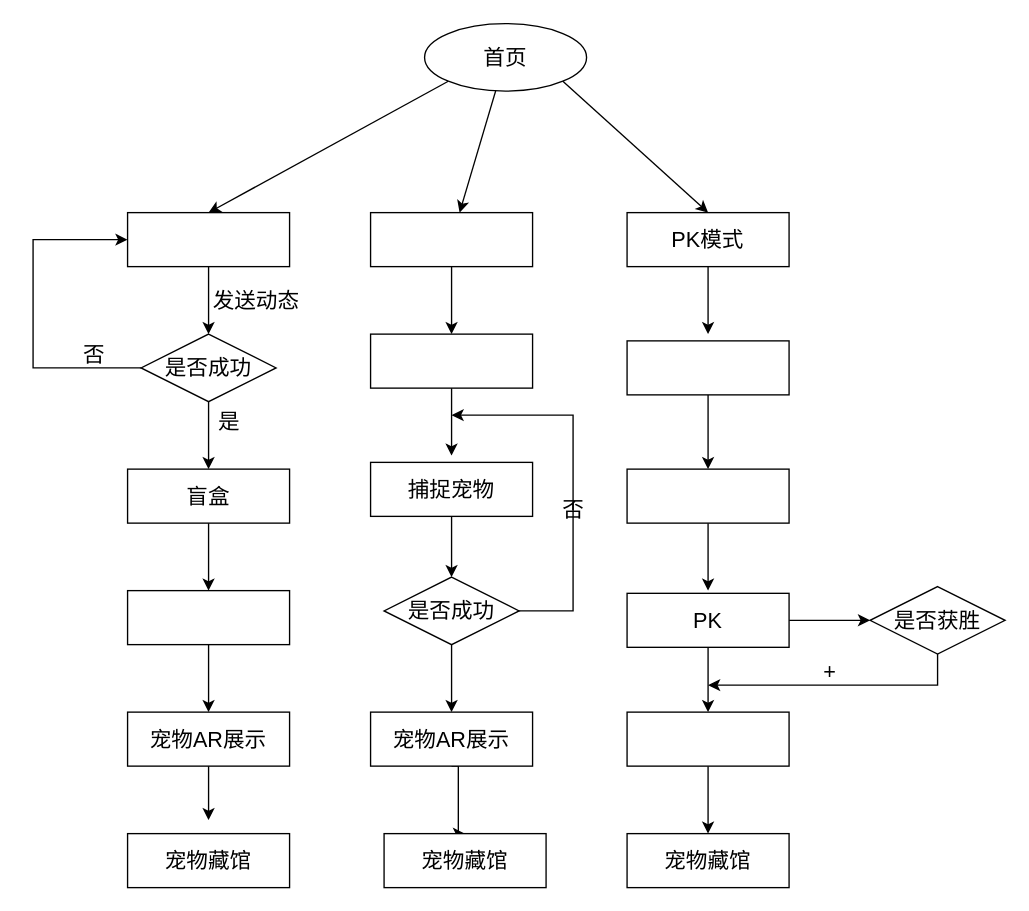
The diagram is 1029 pixels wide and 911 high, and some of its shapes have lost their labels. Each missing label, with the centre of its shape:
"与朋友宠物合影" goes at point (707, 738).
"寻宝模式" goes at point (451, 239).
"徽章" goes at point (208, 617).
"打卡模式" goes at point (208, 239).
"显示附近宠物位置" goes at point (451, 360).
"查看朋友圈排名" goes at point (707, 367).
"进入朋友的藏馆" goes at point (707, 495).
